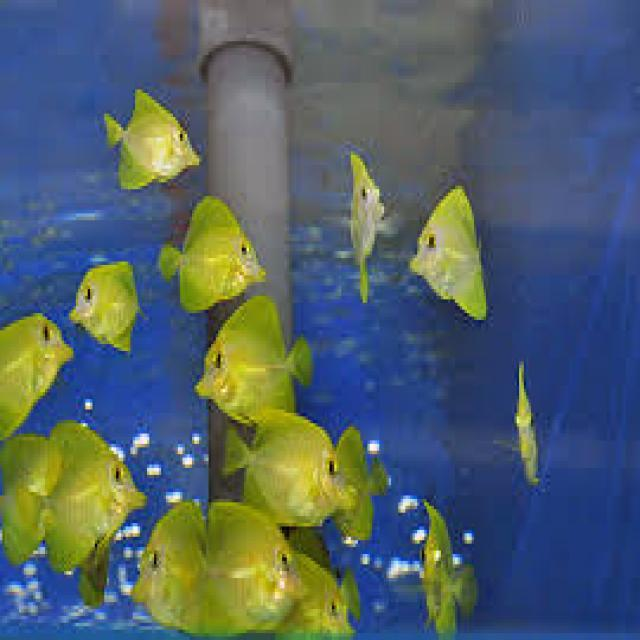YellowTang: (47, 404, 149, 580), (220, 386, 345, 528), (193, 286, 311, 423), (197, 473, 296, 623), (157, 189, 267, 320), (325, 134, 400, 319), (406, 176, 492, 327), (97, 78, 197, 193), (0, 303, 80, 442), (412, 491, 483, 640), (137, 494, 205, 637), (71, 241, 148, 357), (330, 406, 388, 557), (0, 416, 59, 559), (498, 354, 556, 498)
